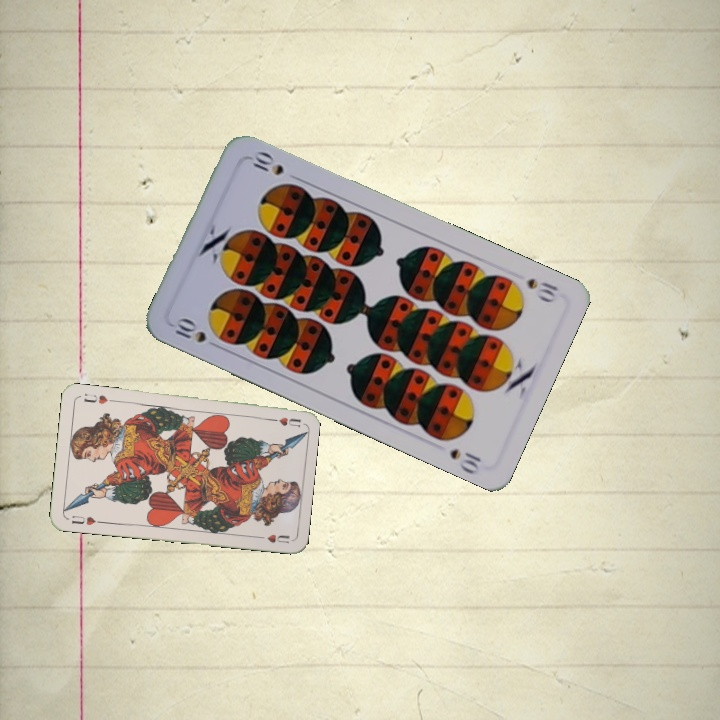HU: (263, 413, 303, 429), (67, 511, 104, 528)
S10: (168, 313, 223, 352), (523, 274, 561, 305)
